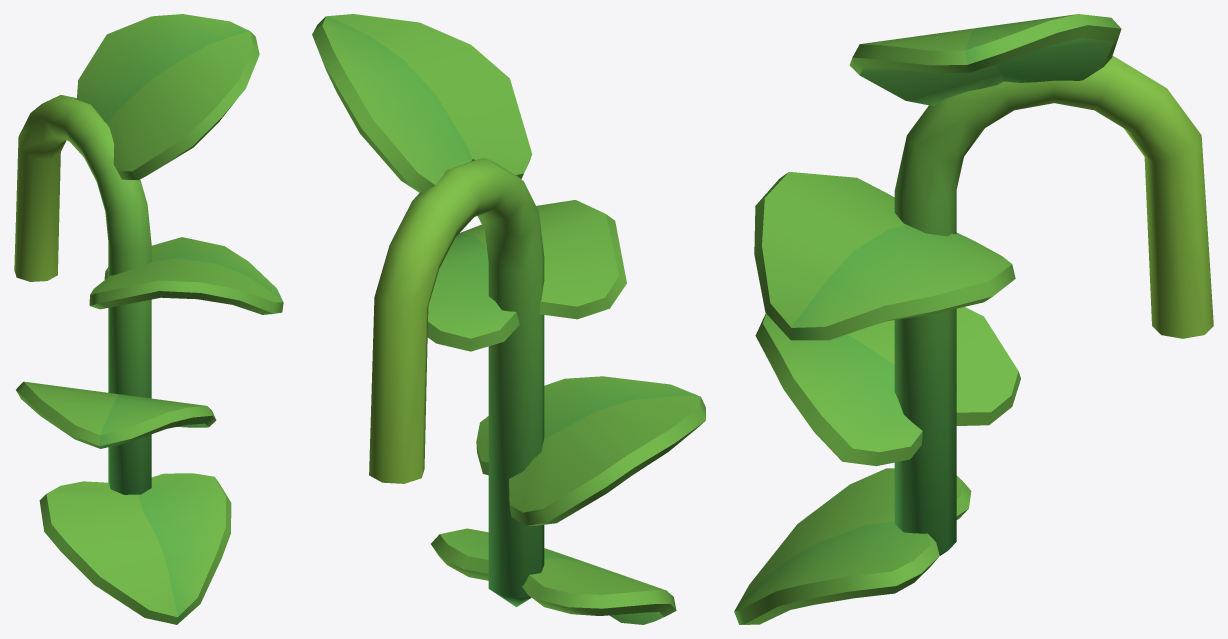
Rendered from Pothos Vine Medium A.glb.
3 renders of one model, left to right at view 1: azimuth 30°, elevation 25°; view 2: azimuth 150°, elevation 25°; view 3: azimuth 270°, elevation 25°, orthographic. The views are drawn at different scales.
Parts seen in each view (by area): view 1: pothos_vine_medium_A; view 2: pothos_vine_medium_A; view 3: pothos_vine_medium_A.
Part boxes in pixels (x1,y1,x2,y2): pothos_vine_medium_A: [14, 14, 283, 624]; pothos_vine_medium_A: [312, 14, 705, 624]; pothos_vine_medium_A: [734, 14, 1213, 624].
Size of the model in its own units: 0.5195 by 0.9872 by 0.6275.
1 material, 1 textured.
